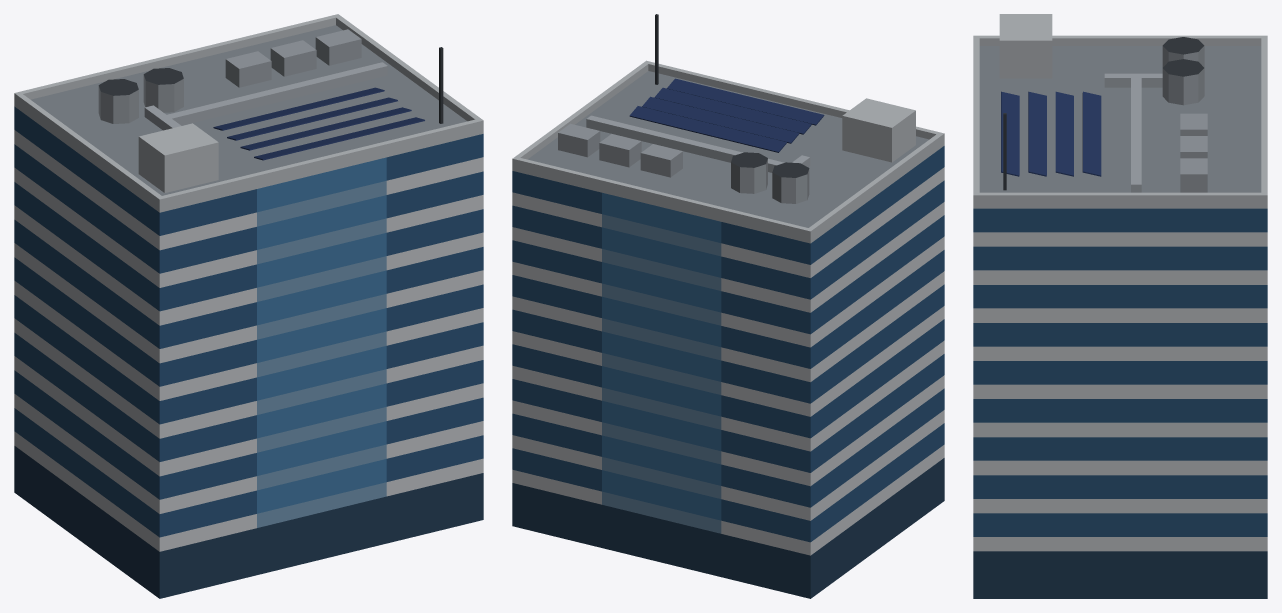
The model's file is building_3.glb.
3 views of the same model, side by side, from view 1: azimuth 30°, elevation 25°; view 2: azimuth 150°, elevation 25°; view 3: azimuth 270°, elevation 25° (orthographic). The views are drawn at different scales.
Parts seen in each view (by area): view 1: Building; view 2: Building; view 3: Building.
Part boxes in pixels (bbox=[...]): Building: bbox=[14, 14, 483, 598]; Building: bbox=[512, 14, 944, 598]; Building: bbox=[973, 14, 1267, 598].
Size of the model in its own units: 36 by 49.6 by 28.
